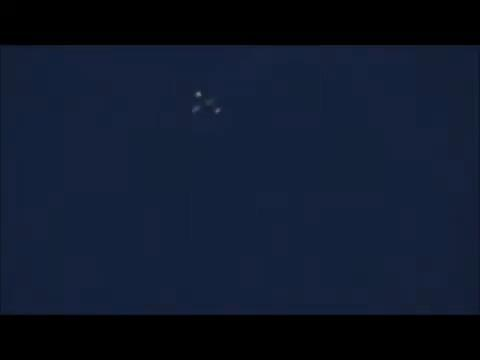Plane: (165, 80, 243, 127)
